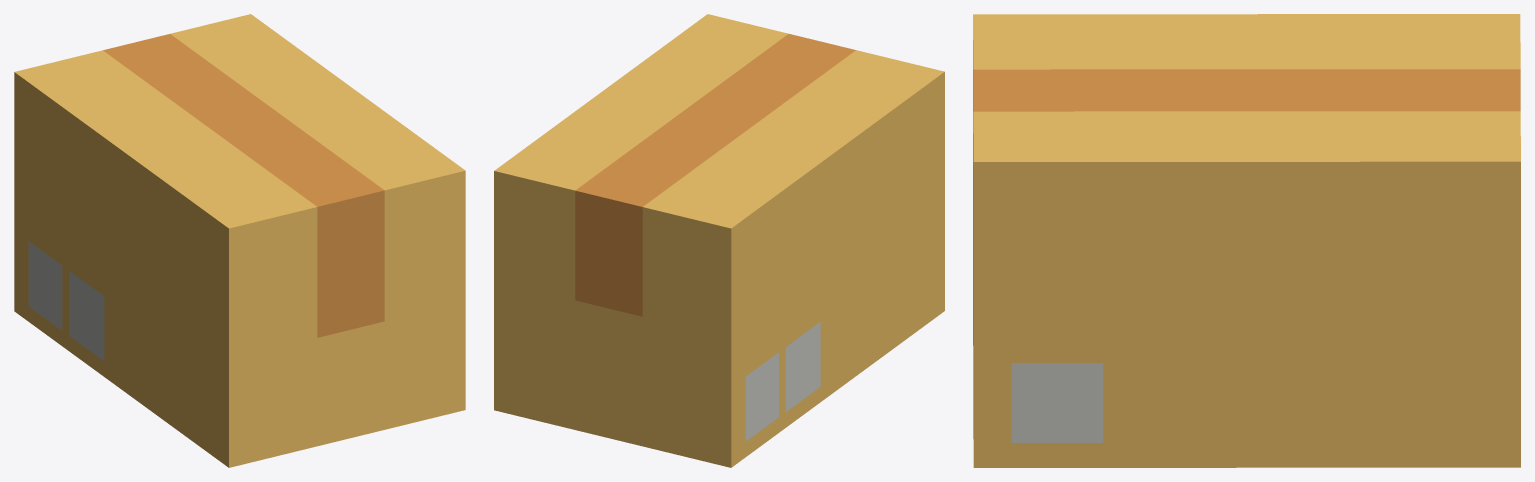
File: CardboardBox_02.FBX
The picture shows the model from 3 angles, left to right: view 1: azimuth 30°, elevation 25°; view 2: azimuth 150°, elevation 25°; view 3: azimuth 270°, elevation 25°; orthographic projection. The views are drawn at different scales.
Parts seen in each view (by area): view 1: CardboardBox_02; view 2: CardboardBox_02; view 3: CardboardBox_02.
Boxes of the visible parts, box(x1,y1,x2,y2) form: CardboardBox_02: box(14, 14, 465, 467); CardboardBox_02: box(494, 14, 944, 467); CardboardBox_02: box(973, 14, 1520, 467).
Size of the model in its own units: 32.86 by 31.66 by 51.38.
